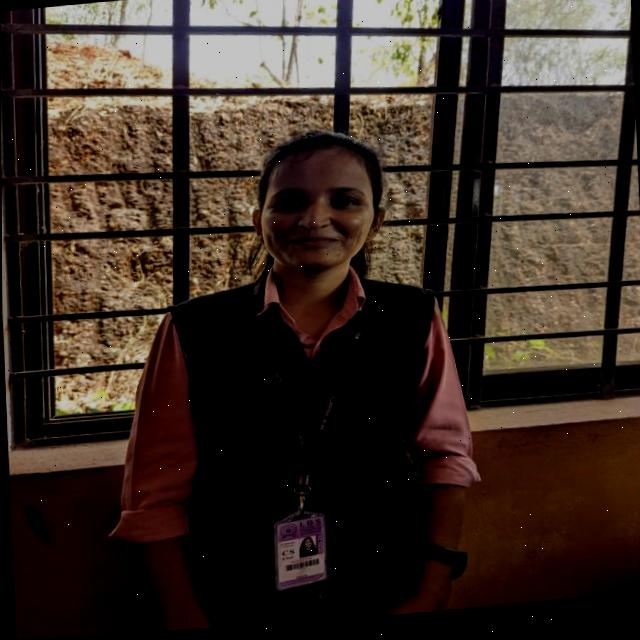id_card: (233, 288, 373, 604)
